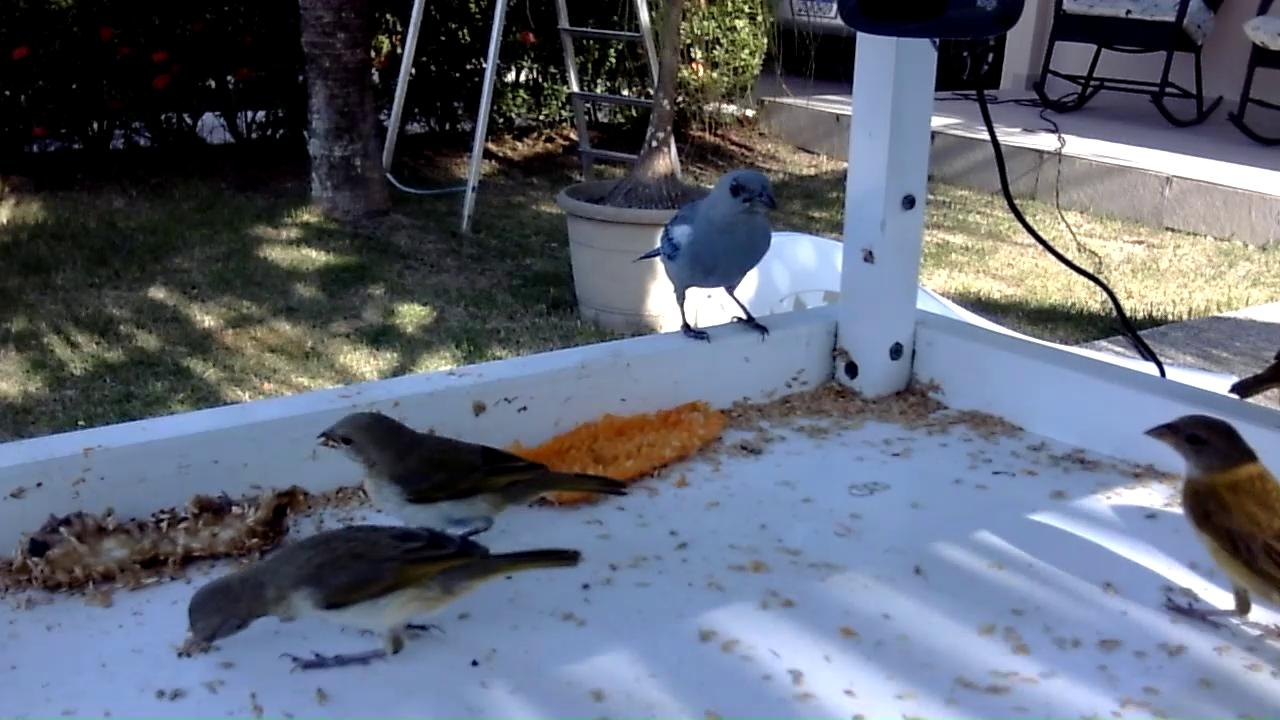canario_do_amazonas: (188, 522, 585, 679), (315, 407, 630, 538), (1141, 409, 1280, 637)
sanhaco_da_amazonia: (636, 169, 777, 344)
